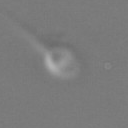normal: (1, 4, 52, 54)
